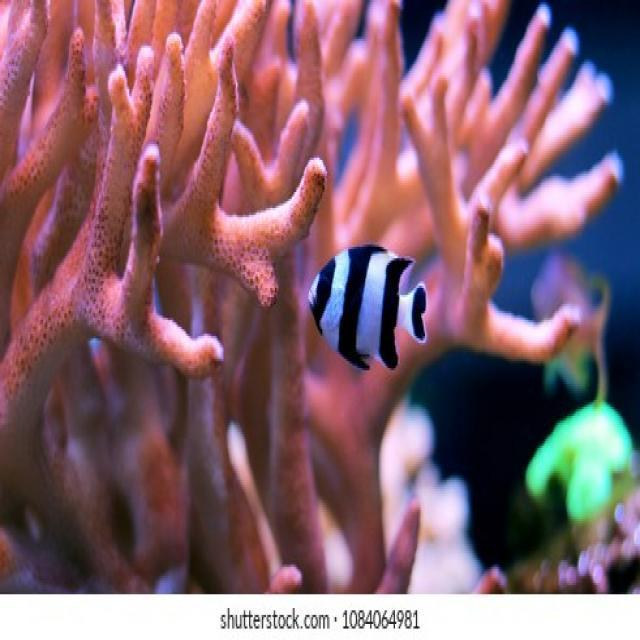Three_striped DasmselFish: (307, 237, 432, 376)
